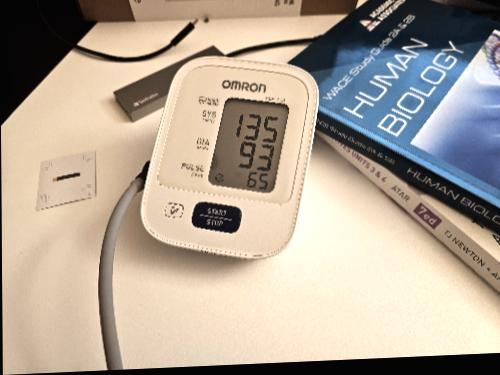bpm: (206, 90, 292, 197)
